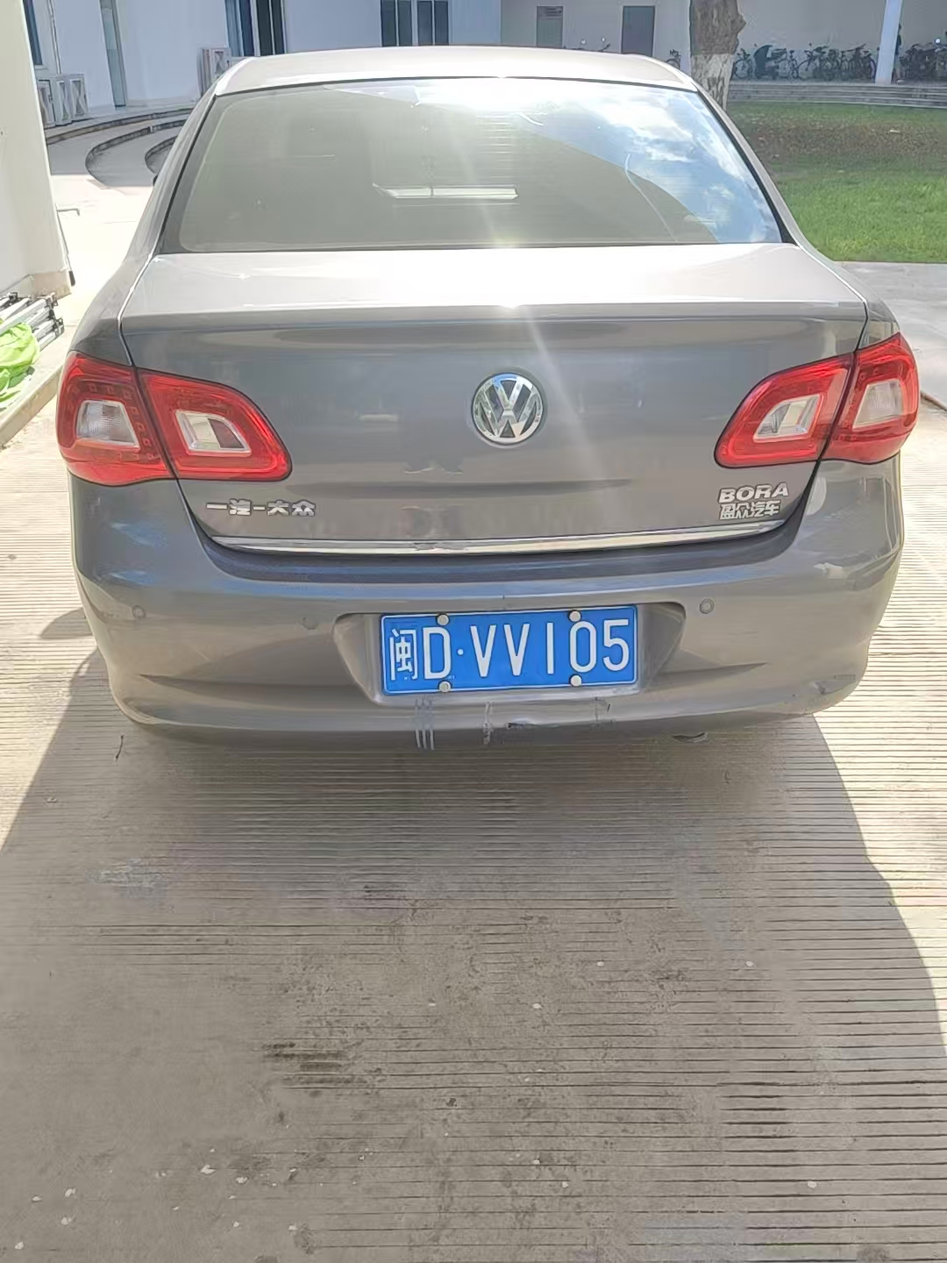plate: (379, 617, 642, 687)
